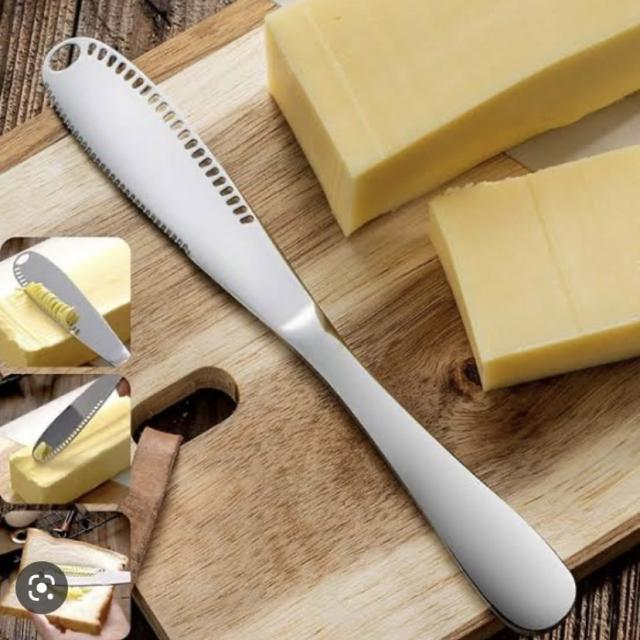Knife: (26, 12, 635, 640)
